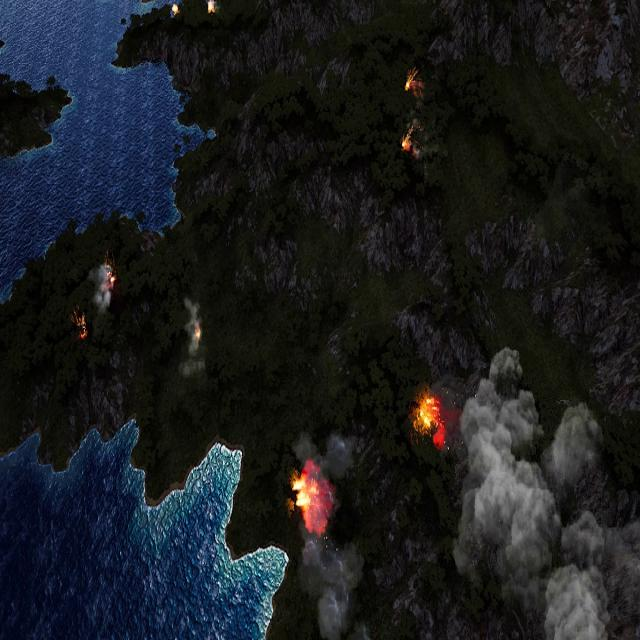fire: (290, 462, 332, 532), (412, 394, 445, 447), (400, 121, 420, 158), (404, 68, 424, 94), (74, 309, 88, 339), (106, 264, 113, 289), (194, 323, 202, 341), (207, 0, 218, 13), (172, 2, 180, 15)
smoke: (443, 346, 640, 640), (288, 428, 380, 640), (181, 294, 208, 384), (93, 262, 115, 312)
